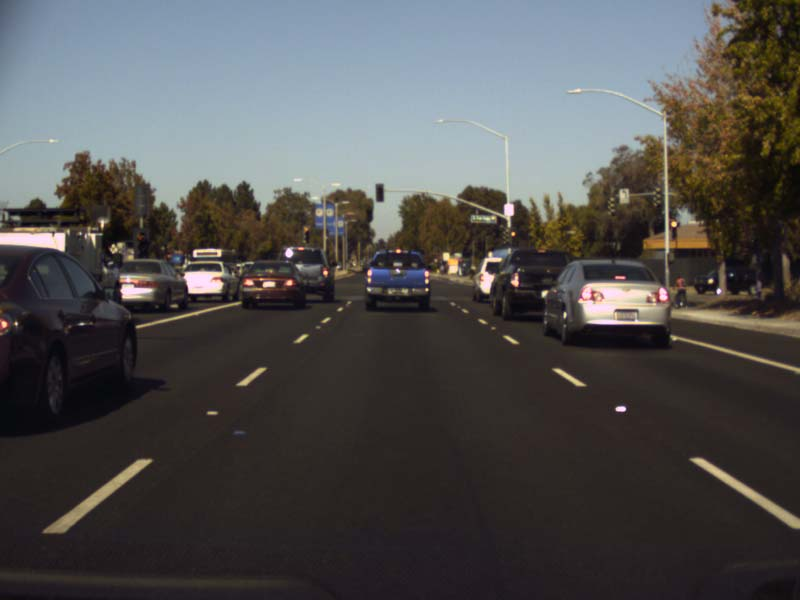Red: (134, 228, 149, 257), (303, 225, 309, 242), (510, 228, 516, 245), (671, 220, 676, 239)
